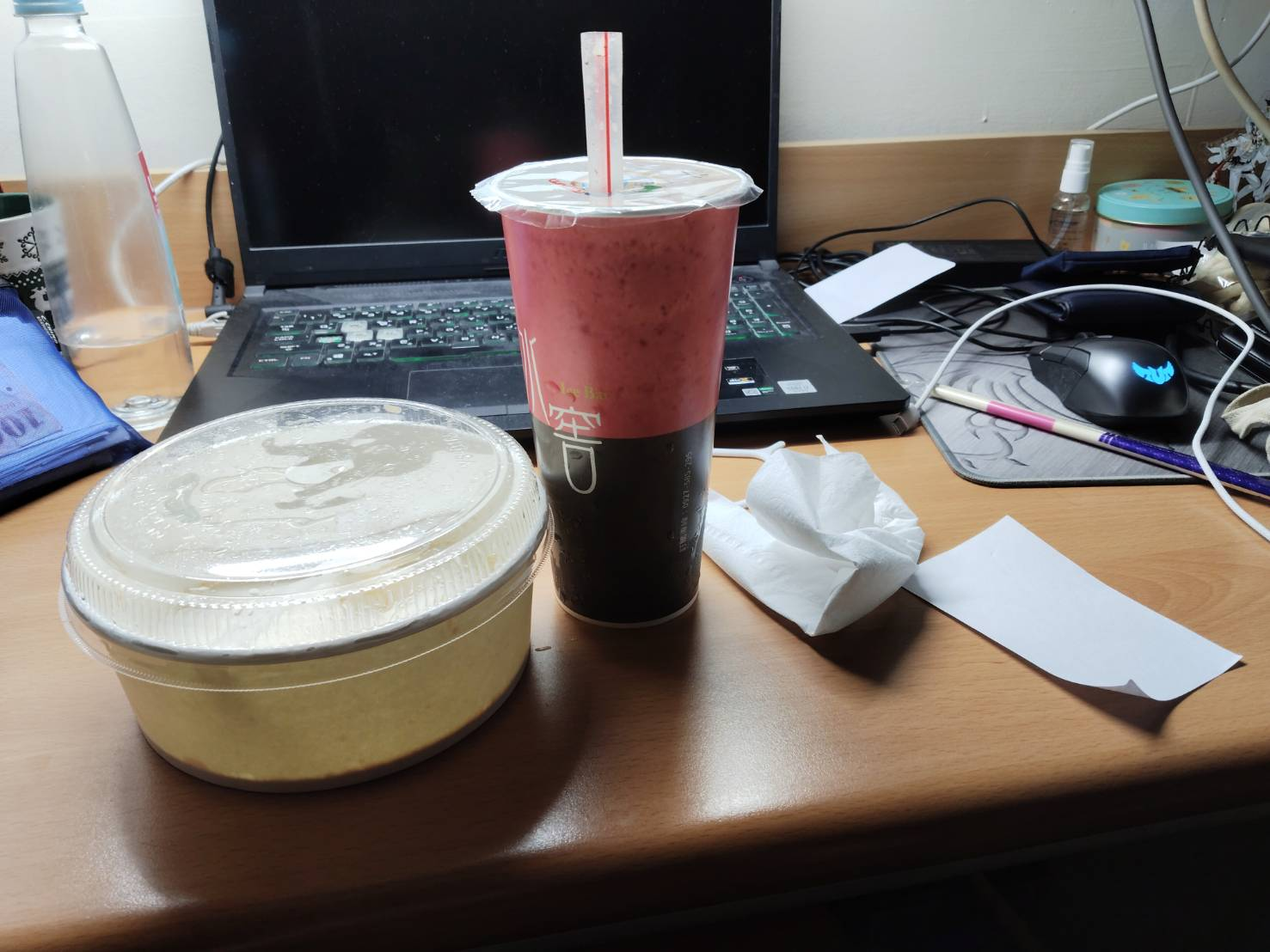General waste: (684, 406, 942, 698)
paper: (14, 354, 578, 821), (451, 21, 798, 679), (889, 476, 1264, 742)
